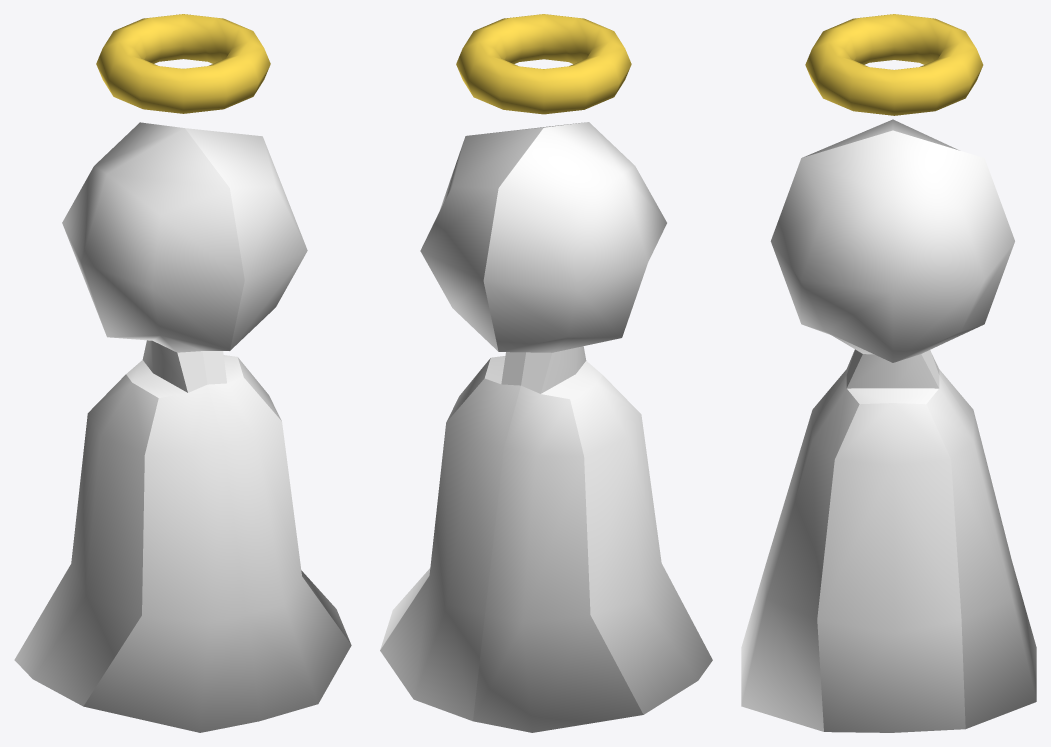
The model's file is Angel.fbx.
The picture shows the model from 3 angles, left to right: view 1: azimuth 30°, elevation 25°; view 2: azimuth 150°, elevation 25°; view 3: azimuth 270°, elevation 25°; orthographic projection.
Parts seen in each view (by area): view 1: pCube11; view 2: pCube11; view 3: pCube11.
Part boxes in pixels (x1,y1,x2,y2): pCube11: (14, 14, 351, 732); pCube11: (380, 14, 712, 732); pCube11: (741, 14, 1036, 732).
Bounding box in the file's own units: 2.3 × 4.51 × 1.9.
1 material, 1 textured.
